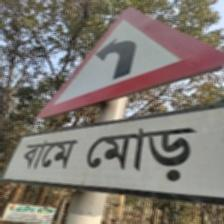Left-Turn: (1, 7, 221, 208)
